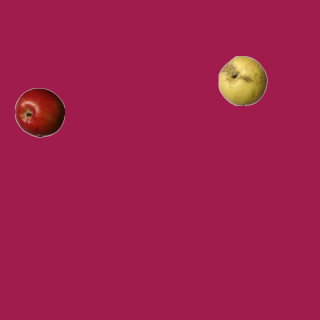Apple Braeburn: (14, 87, 64, 137)
Apple Golden 1: (217, 55, 267, 105)
